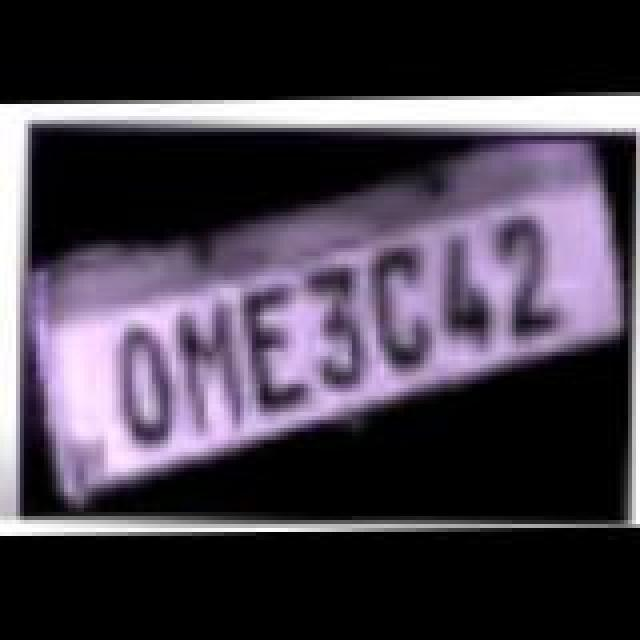2: (476, 214, 580, 350)
3: (290, 266, 390, 398)
4: (420, 234, 508, 362)
C: (356, 244, 452, 380)
E: (224, 284, 328, 420)
M: (160, 298, 264, 442)
O: (96, 324, 192, 456)
